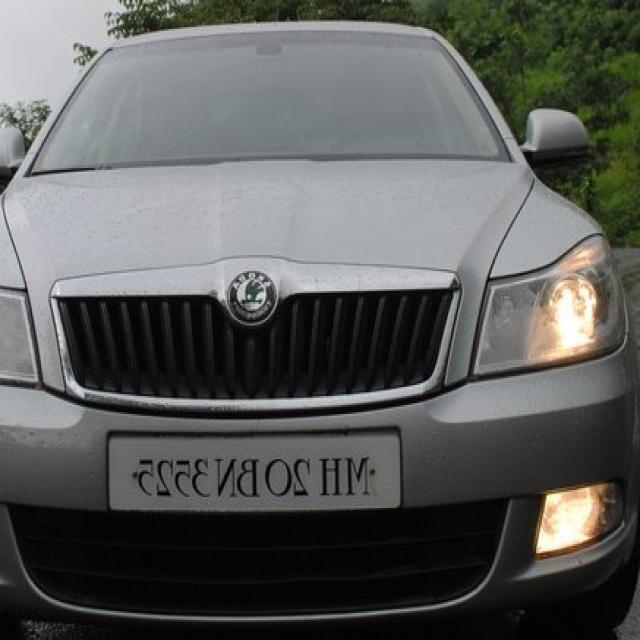license_plate: (100, 419, 404, 524)
